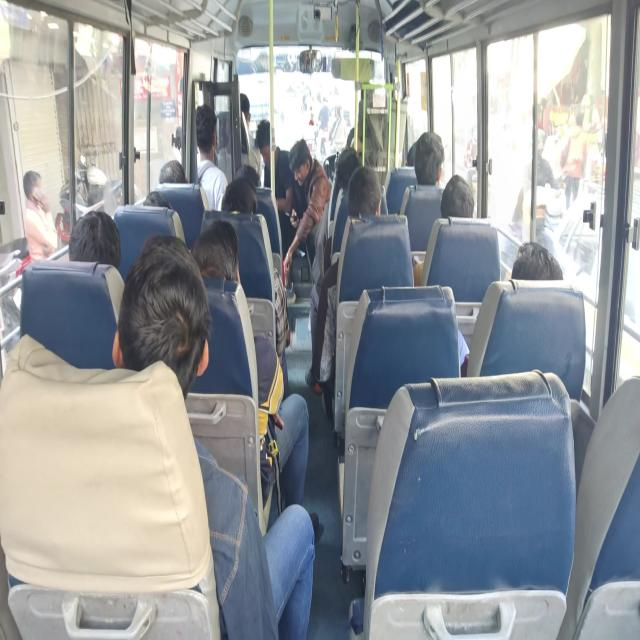person: (108, 237, 213, 392), (197, 221, 246, 296), (69, 200, 118, 271), (509, 237, 570, 291), (436, 167, 480, 225), (411, 118, 444, 193), (351, 156, 383, 225), (192, 100, 220, 169), (219, 181, 261, 224), (288, 136, 314, 199), (255, 116, 281, 177), (352, 64, 380, 120), (153, 154, 189, 194), (140, 178, 168, 220), (334, 142, 364, 180), (236, 90, 255, 137), (234, 163, 266, 190), (405, 139, 422, 166)
